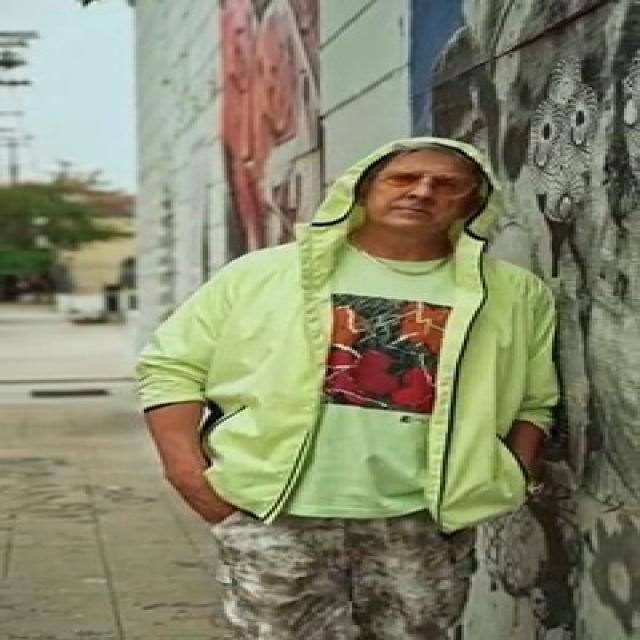Jacket_Wearer: (170, 234, 590, 489)
Person: (140, 134, 587, 608)
